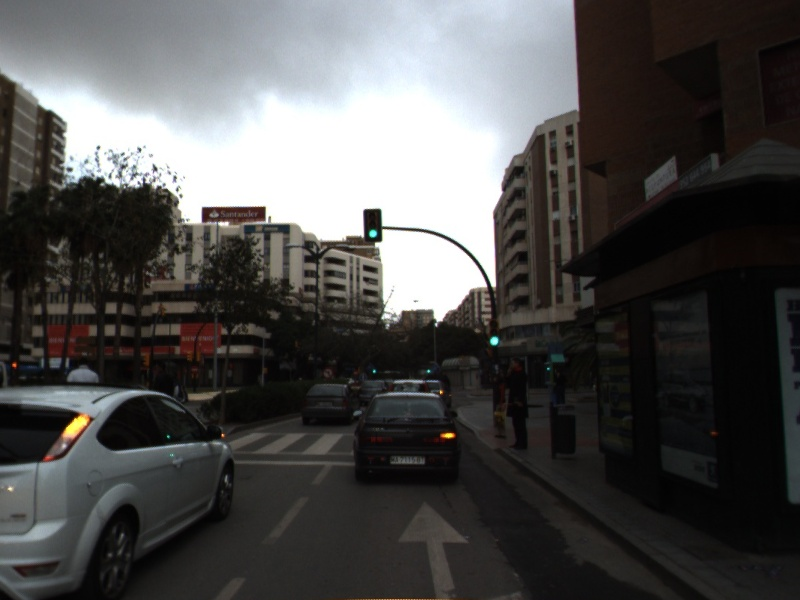STRAIGHT: (393, 495, 474, 600)
